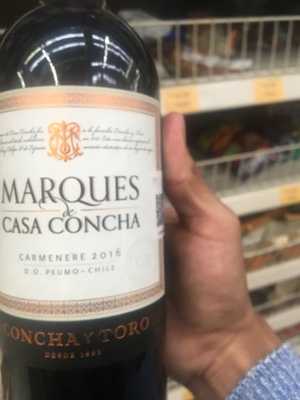marques de casa concha carmenere: (1, 27, 176, 400)
